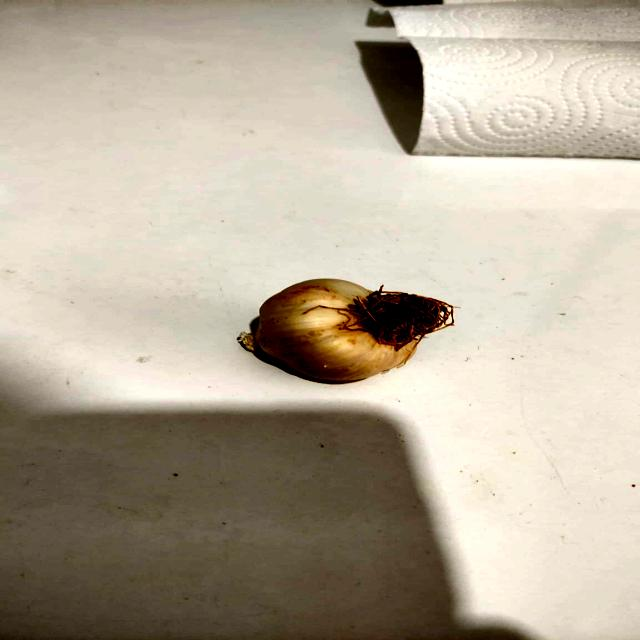garlic: (233, 274, 459, 390)
